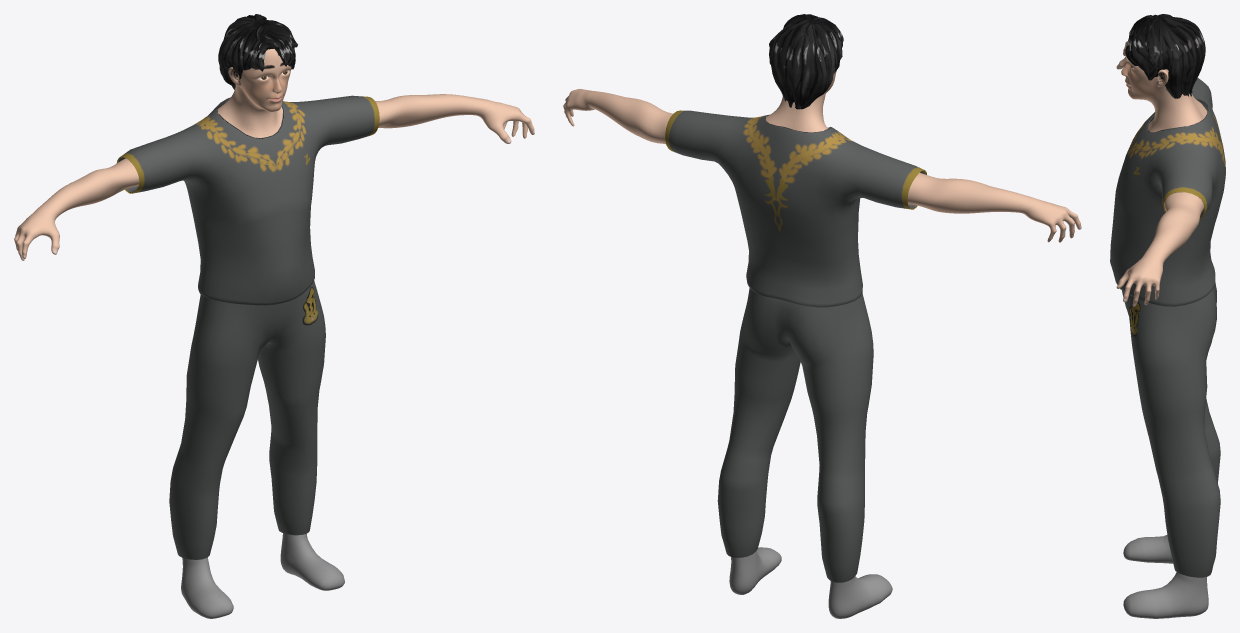
The model's file is Human.fbx.
3 renders of one model, left to right at view 1: azimuth 30°, elevation 25°; view 2: azimuth 150°, elevation 25°; view 3: azimuth 270°, elevation 25°, orthographic.
Parts seen in each view (by area): view 1: Human; view 2: Human; view 3: Human.
Boxes of the visible parts, x1=… form: Human: x1=14, y1=14, x2=534, y2=618; Human: x1=563, y1=14, x2=1081, y2=618; Human: x1=1110, y1=14, x2=1225, y2=618.
Bounding box in the file's own units: 27.69 × 29.86 × 5.47.
4 materials, 4 textured.
